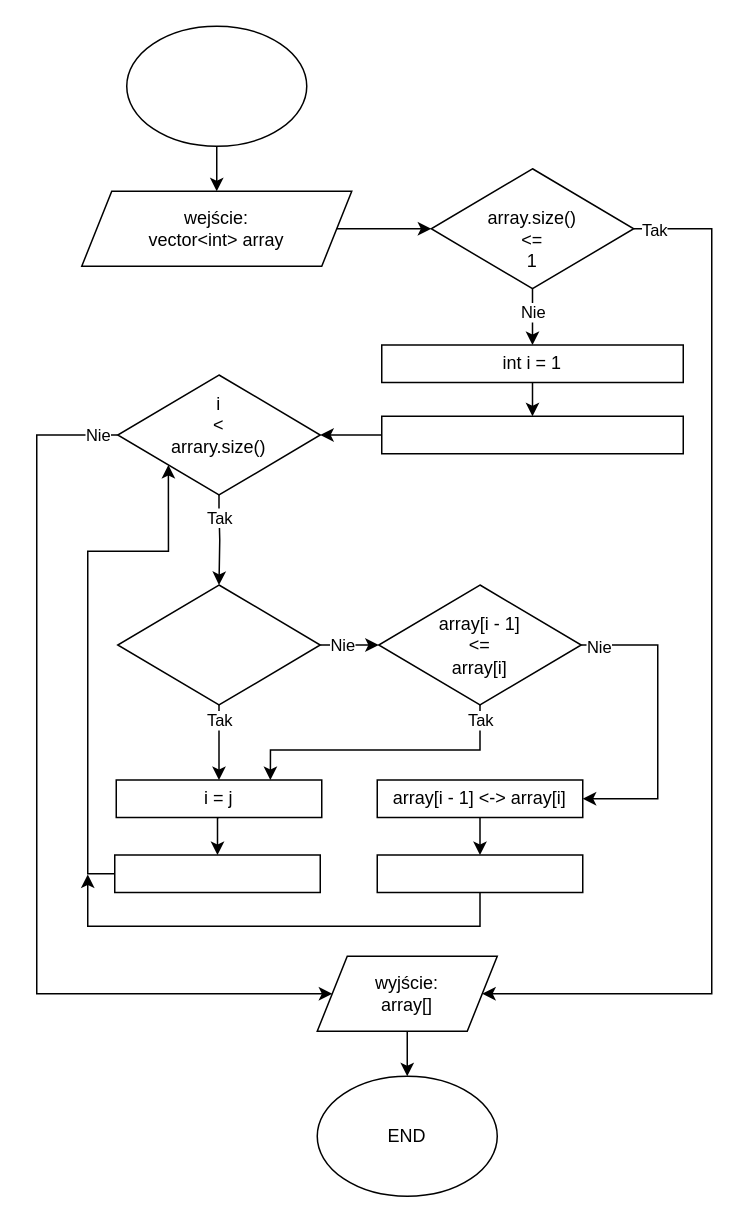
Some shapes in this 750 by 1223 pixel diagram are drawn without their labels. Each missing label, with the centre of its shape:
i = i - 1: the point at 479,873
i == 0: the point at 218,644
int j = 2: the point at 531,434
j = j + 1: the point at 216,873
START: the point at 216,85
